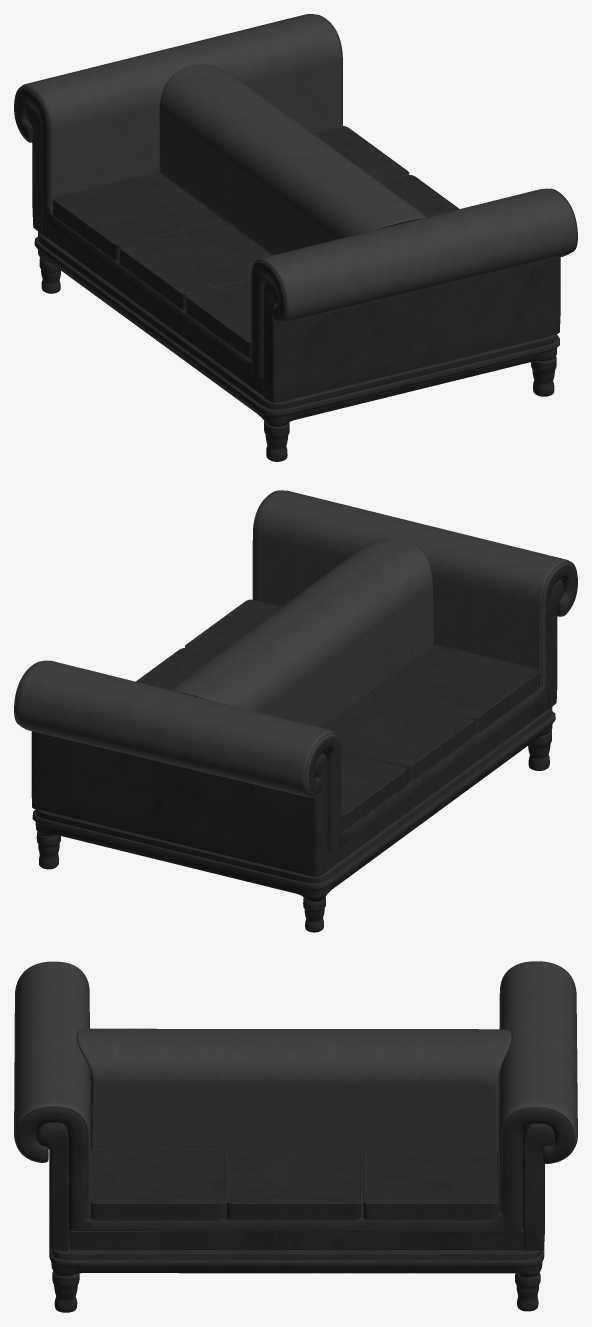
File: sofa3.fbx
The picture shows the model from 3 angles, top to bottom: view 1: azimuth 30°, elevation 25°; view 2: azimuth 150°, elevation 25°; view 3: azimuth 270°, elevation 25°; orthographic projection. The views are drawn at different scales.
Parts seen in each view (by area): view 1: FG Chester Field Sofa.Shape; view 2: FG Chester Field Sofa.Shape; view 3: FG Chester Field Sofa.Shape.
Part boxes in pixels (x1=…): FG Chester Field Sofa.Shape: x1=14, y1=14, x2=577, y2=461; FG Chester Field Sofa.Shape: x1=14, y1=490, x2=577, y2=932; FG Chester Field Sofa.Shape: x1=14, y1=961, x2=577, y2=1312.
Bounding box in the file's own units: 114 × 75.24 × 182.
1 material, 1 textured.
